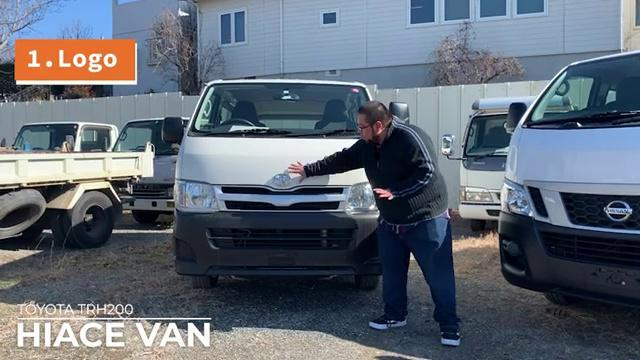van: (180, 76, 396, 294)
